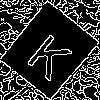K: (24, 25, 80, 82)
